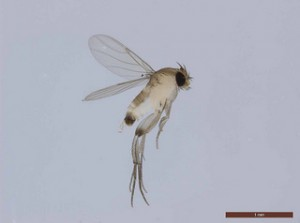phorid fly: (72, 29, 209, 213)
